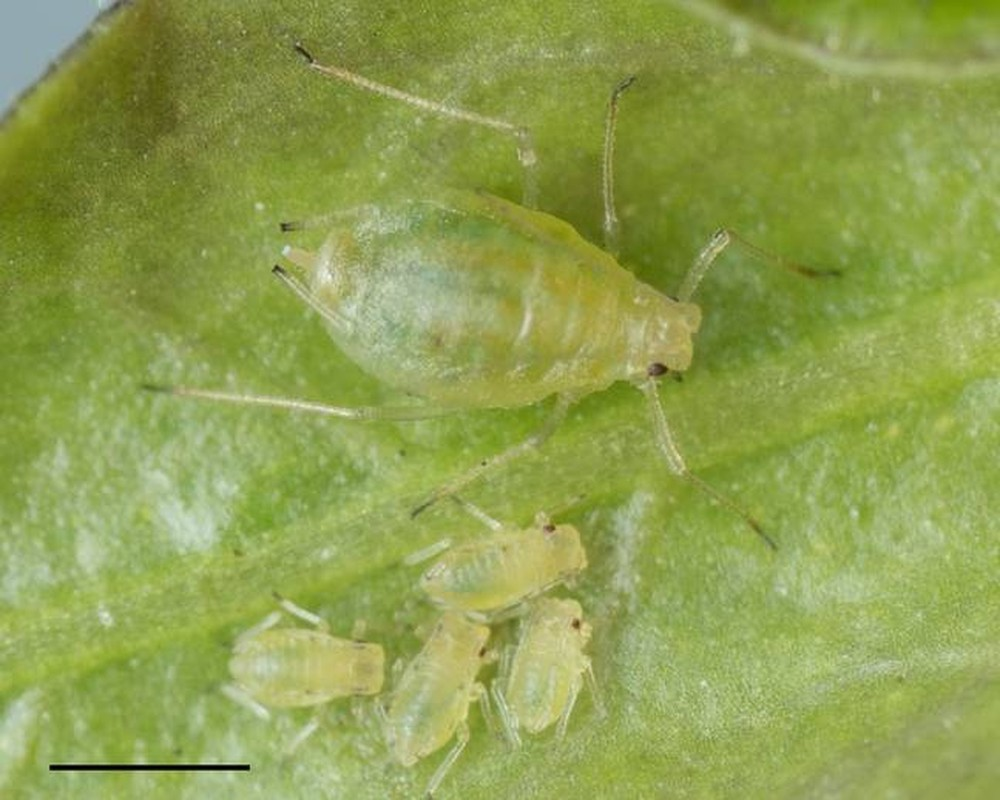Pulgon: (218, 54, 824, 505), (407, 490, 603, 611), (208, 595, 389, 724), (378, 602, 498, 780), (492, 590, 618, 742)
